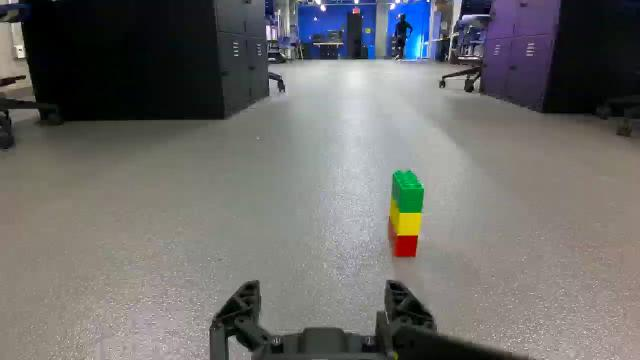lego: (389, 169, 426, 259)
